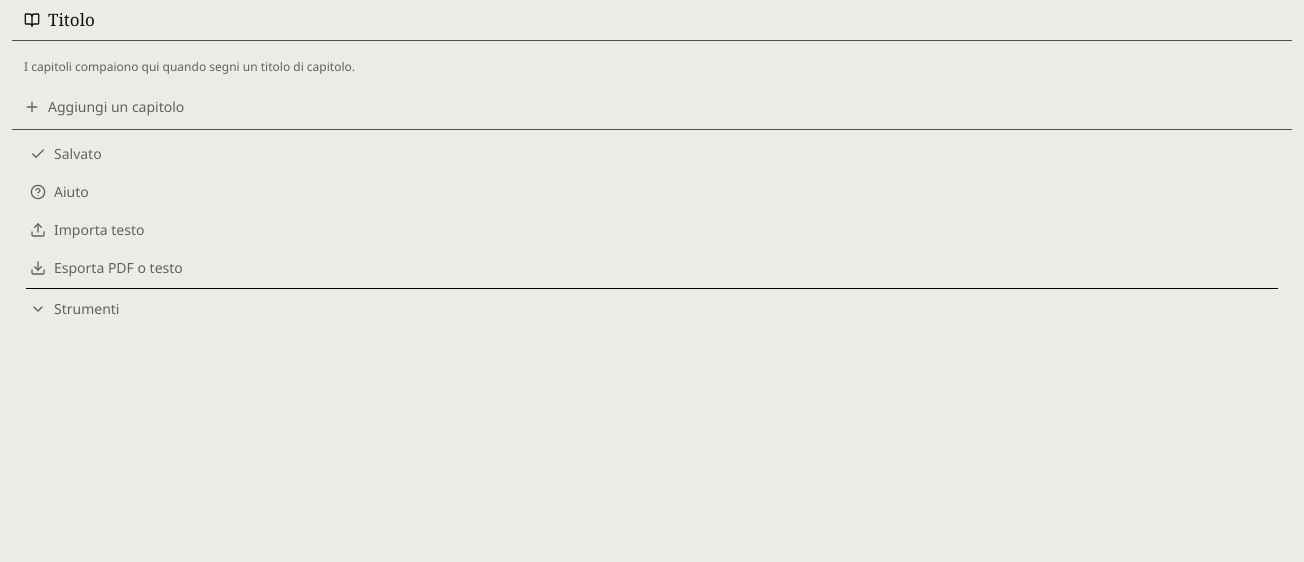
Scenario: text language in Tools › icone diverse: BookA per Lingua del testo, Languages per Traduci
Click the button "Strumenti".
click(87, 308)  # box [18,291,1286,327]
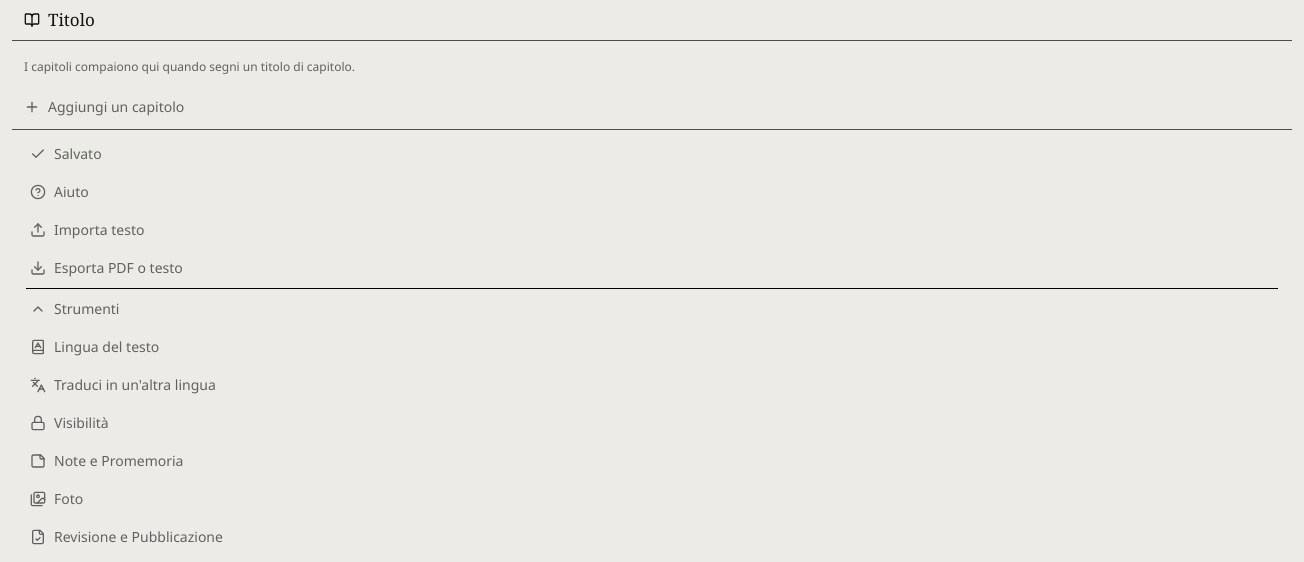
Expected: the icon with class "lucide-book-a" is shown, [30,339,46,355]
Expected: the icon with class "lucide-languages" is shown, [30,377,46,393]
